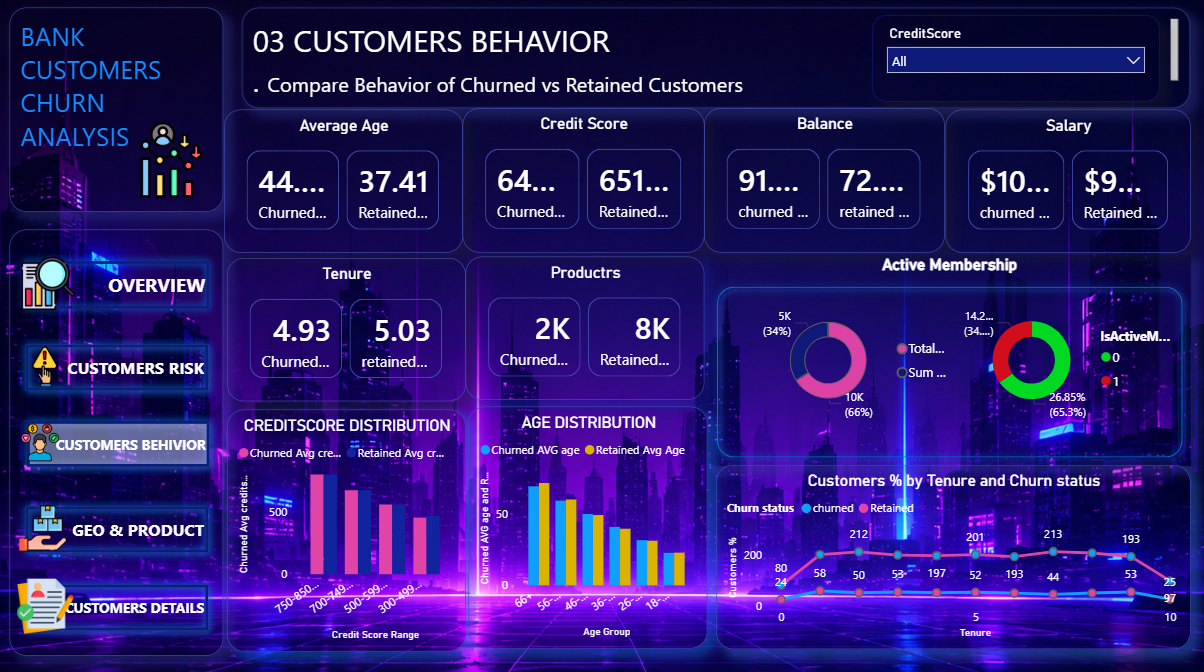

This screenshot's page, from the dashboard's own definition file:
{"tool":"powerbi","page":{"name":"CUSTOMERS BEHEVIOR","canvas":[1280,720],"ordinal":2},"visuals":[{"type":"textbox","box":[257.7,11.1,1005.3,106.6],"z":0},{"type":"textbox","box":[11.7,246.7,226.7,451.7],"z":1000},{"type":"textbox","box":[11.7,11.7,226.7,216.7],"z":2000},{"type":"actionButton","box":[18.3,271.7,211.7,66.7],"z":3000},{"type":"actionButton","box":[18.3,360,211.7,66.7],"z":4000},{"type":"actionButton","box":[20,440,211.7,66.7],"z":5000},{"type":"actionButton","box":[18.3,531.7,211.7,66.7],"z":6000},{"type":"actionButton","box":[18.3,613.3,211.7,66.7],"z":7000},{"type":"image","box":[141.6,119.3,82.7,106.6],"z":8000},{"type":"image","box":[20,531.7,51.7,63.3],"z":9000},{"type":"image","box":[28.3,360,43.3,63.3],"z":10000},{"type":"image","box":[20,440,45,63.3],"z":11000},{"type":"image","box":[23.3,271.7,56.7,63.3],"z":12000},{"type":"image","box":[18.3,613.3,60,63.3],"z":13000},{"type":"slicer","fields":{"Values":["bank_churn bank_customer_churn.CreditScore"]},"box":[925,18.3,305,91.7],"z":14000},{"type":"cardVisual","title":"Average Age","fields":{"Data":["Table.Churned AVG age","Table.Retained Avg Age"]},"box":[238.3,120,253.3,151.7],"z":15000},{"type":"cardVisual","title":"Credit Score","fields":{"Data":["Table.Churned Avg creditscore","Table.Retained Avg creditscore"]},"box":[491.7,118.3,256.7,153.3],"z":16000},{"type":"cardVisual","title":"Balance","fields":{"Data":["Table.churned Avg balance","Table.retained Avg balance"]},"box":[748.3,118.3,255,153.3],"z":17000},{"type":"cardVisual","title":"Salary","fields":{"Data":["Table.churned Avg salary","Table.Retained AVG salary"]},"box":[1003.3,120,260,151.7],"z":18000},{"type":"cardVisual","title":"Tenure","fields":{"Data":["Table.Churned Avg tenure","Table.retained Avg tenure"]},"box":[241.7,276.7,253.3,151.7],"z":19000},{"type":"cardVisual","title":"Productrs","fields":{"Data":["Table.Churned Customers","Table.Retained Customers"]},"box":[495,275,253.3,151.7],"z":20000},{"type":"donutChart","fields":{"Category":["bank_churn bank_customer_churn.IsActiveMember"],"Y":["Table.Churn Rate"]},"box":[1016.7,283.3,233.3,203.3],"z":21000},{"type":"donutChart","fields":{"Y":["Table.Total Customers","Sum(bank_churn bank_customer_churn.IsActiveMember)"]},"box":[801.7,283.3,216.7,203.3],"z":22000},{"type":"shape","title":"Active Membership","box":[751.7,273.3,511.7,223.3],"z":23000},{"type":"clusteredColumnChart","title":"CREDITSCORE DISTRIBUTION","fields":{"Category":["bank_churn bank_customer_churn.Credit Score Range"],"Y":["Table.Churned Avg creditscore","Table.Retained Avg creditscore"]},"box":[241.7,436.7,253.3,256.7],"z":24000},{"type":"clusteredColumnChart","title":"AGE DISTRIBUTION","fields":{"Category":["bank_churn bank_customer_churn.Age Group"],"Y":["Table.Churned AVG age","Table.Retained Avg Age"]},"box":[498.3,435,253.3,256.7],"z":25000},{"type":"lineChart","fields":{"Category":["bank_churn bank_customer_churn.Tenure"],"Series":["bank_churn bank_customer_churn.Churn status"],"Y":["Table.Customers %"]},"box":[760,496.7,503.3,195],"z":26000}]}

Visuals, with their boxes in screenshot pixels (x1, y1, x2, y2), scaled from the page's 1280x720 canvas onto the 1204x672 screenshot:
textbox: rect(242, 10, 1188, 110)
textbox: rect(11, 230, 224, 652)
textbox: rect(11, 11, 224, 213)
actionButton: rect(17, 254, 216, 316)
actionButton: rect(17, 336, 216, 398)
actionButton: rect(19, 411, 218, 473)
actionButton: rect(17, 496, 216, 559)
actionButton: rect(17, 572, 216, 635)
image: rect(133, 111, 211, 211)
image: rect(19, 496, 67, 555)
image: rect(27, 336, 67, 395)
image: rect(19, 411, 61, 470)
image: rect(22, 254, 75, 313)
image: rect(17, 572, 74, 631)
slicer - bank_churn bank_customer_churn.CreditScore: rect(870, 17, 1157, 103)
"Average Age" cardVisual: rect(224, 112, 462, 254)
"Credit Score" cardVisual: rect(463, 110, 704, 253)
"Balance" cardVisual: rect(704, 110, 944, 253)
"Salary" cardVisual: rect(944, 112, 1188, 254)
"Tenure" cardVisual: rect(227, 258, 466, 400)
"Productrs" cardVisual: rect(466, 257, 704, 398)
donutChart - bank_churn bank_customer_churn.IsActiveMember x Table.Churn Rate: rect(956, 264, 1176, 454)
donutChart - Table.Total Customers x Sum(bank_churn bank_customer_churn.IsActiveMember): rect(754, 264, 958, 454)
"Active Membership" shape: rect(707, 255, 1188, 463)
"CREDITSCORE DISTRIBUTION" clusteredColumnChart: rect(227, 408, 466, 647)
"AGE DISTRIBUTION" clusteredColumnChart: rect(469, 406, 707, 646)
lineChart - bank_churn bank_customer_churn.Tenure x bank_churn bank_customer_churn.Churn status: rect(715, 464, 1188, 646)
